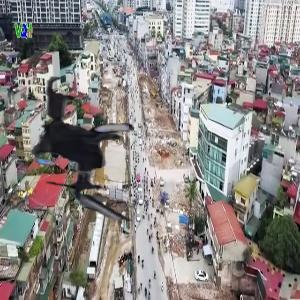drone: (7, 73, 153, 219)
